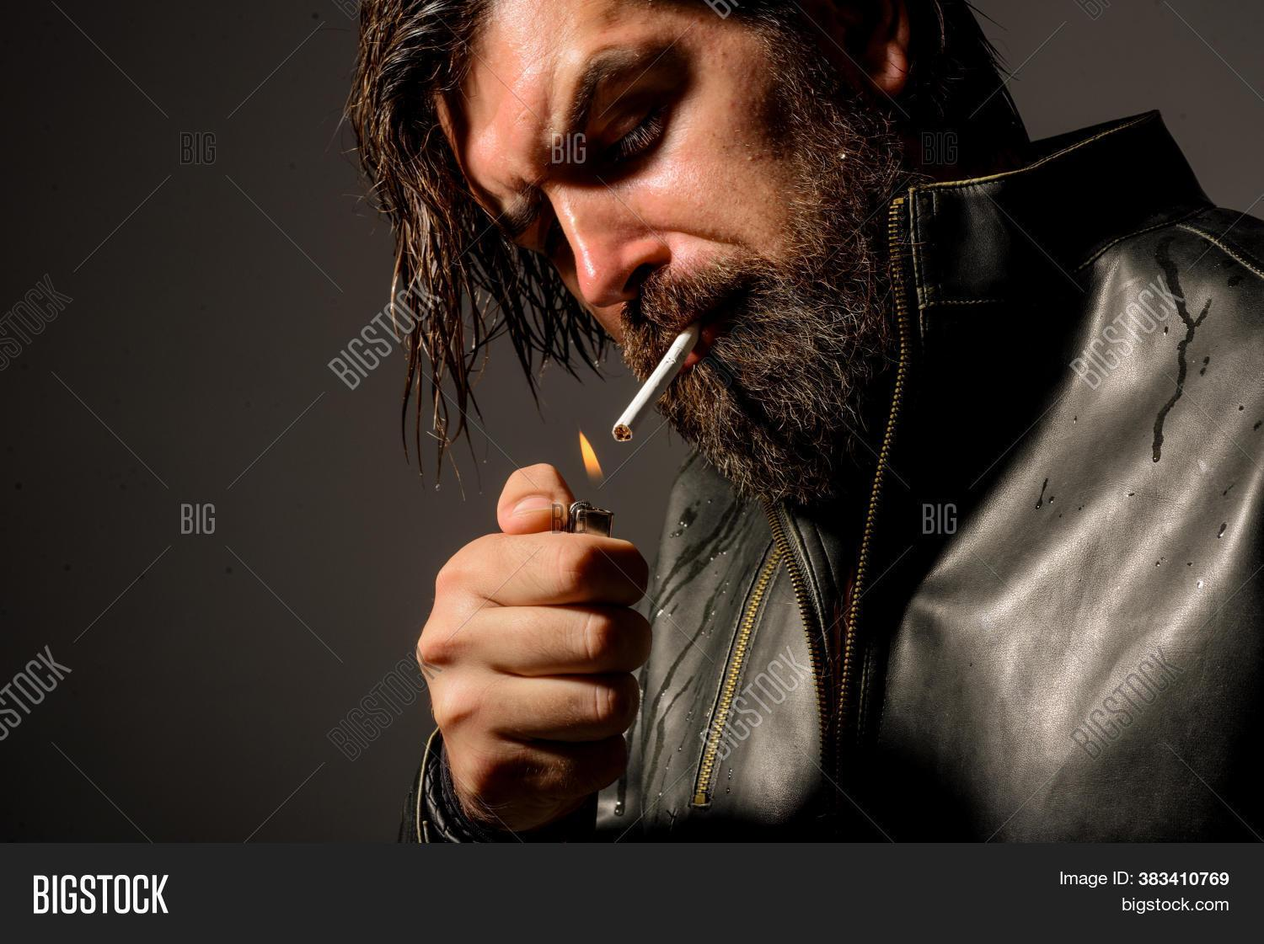cigarette: (612, 320, 700, 441)
